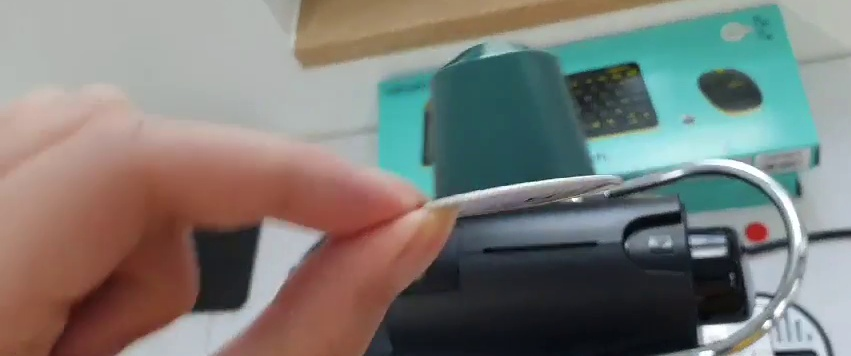capsule_13: (418, 41, 626, 220)
